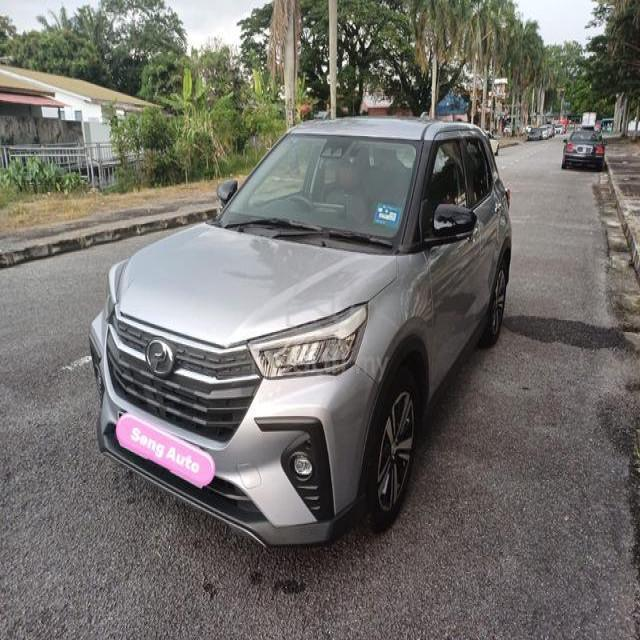PeroduaAtiva: (87, 113, 513, 549)
